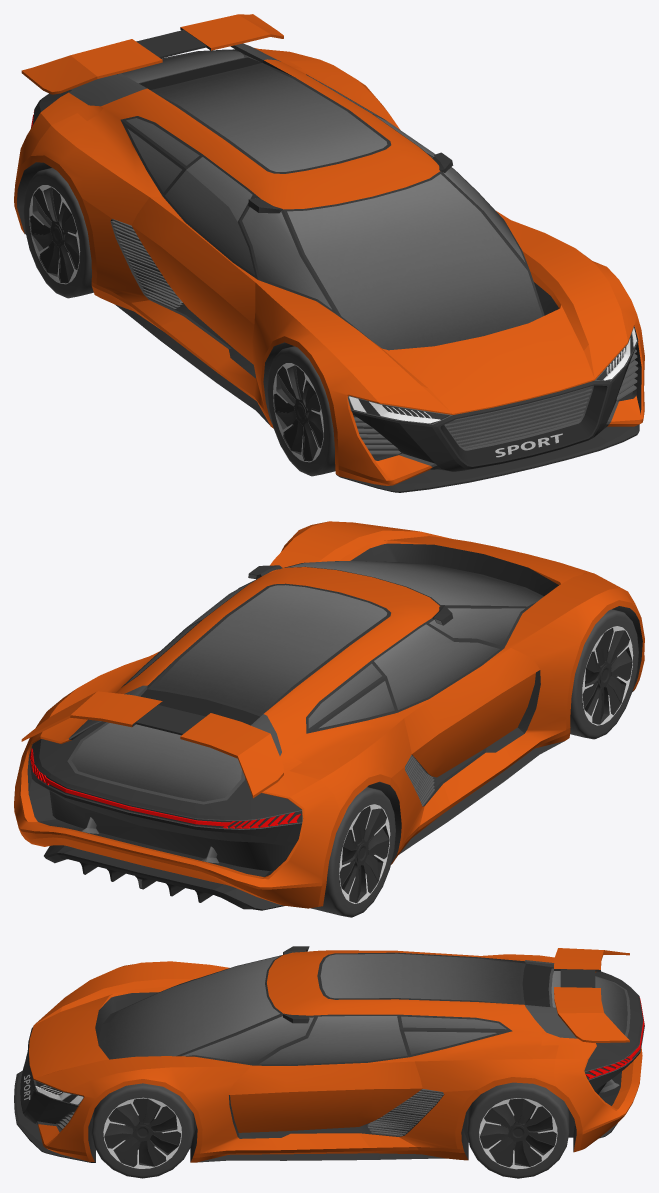
Rendered from carglb.glb.
The picture shows the model from 3 angles, top to bottom: view 1: azimuth 30°, elevation 25°; view 2: azimuth 150°, elevation 25°; view 3: azimuth 270°, elevation 25°; orthographic projection. The views are drawn at different scales.
Visible parts, largest first — view 1: Body_Textures_0, Body_Mat Body 1_0, Wheel_FR_Mat Wheel 2_0, Wheel_BR_Mat Wheel 2_0, Wheel_BR_Textures_0, Wheel_FR_Textures_0, Body_Textures Lights_0, Wheel_FR_Mat Wheel 1_0, Wheel_BR_Mat Wheel 1_0; view 2: Body_Textures_0, Body_Mat Body 1_0, Wheel_FR_Mat Wheel 2_0, Wheel_BR_Mat Wheel 2_0, Wheel_BR_Textures_0, Wheel_FR_Textures_0, Body_Textures Lights_0, Wheel_FR_Mat Wheel 1_0, Wheel_BR_Mat Wheel 1_0; view 3: Body_Mat Body 1_0, Body_Textures_0, Wheel_FL_Mat Wheel 2_0, Wheel_BL_Mat Wheel 2_0, Wheel_BL_Textures_0, Wheel_FL_Textures_0, Wheel_BL_Mat Wheel 1_0, Wheel_FL_Mat Wheel 1_0, Body_Textures Lights_0.
Boxes of the visible parts, left/top/right/bottom form: Body_Textures_0: left=17, top=27, right=641, bottom=492; Body_Mat Body 1_0: left=14, top=14, right=644, bottom=485; Wheel_FR_Mat Wheel 2_0: left=273, top=365, right=323, bottom=461; Wheel_BR_Mat Wheel 2_0: left=29, top=187, right=79, bottom=283; Wheel_BR_Textures_0: left=23, top=168, right=93, bottom=298; Wheel_FR_Textures_0: left=267, top=346, right=335, bottom=476; Body_Textures Lights_0: left=31, top=110, right=636, bottom=423; Wheel_FR_Mat Wheel 1_0: left=273, top=363, right=323, bottom=462; Wheel_BR_Mat Wheel 1_0: left=29, top=185, right=80, bottom=284; Body_Textures_0: left=27, top=543, right=642, bottom=910; Body_Mat Body 1_0: left=14, top=521, right=644, bottom=908; Wheel_FR_Mat Wheel 2_0: left=582, top=628, right=632, bottom=724; Wheel_BR_Mat Wheel 2_0: left=339, top=806, right=389, bottom=902; Wheel_BR_Textures_0: left=311, top=787, right=395, bottom=917; Wheel_FR_Textures_0: left=570, top=609, right=638, bottom=739; Body_Textures Lights_0: left=29, top=748, right=300, bottom=828; Wheel_FR_Mat Wheel 1_0: left=582, top=626, right=633, bottom=725; Wheel_BR_Mat Wheel 1_0: left=339, top=804, right=390, bottom=903; Body_Mat Body 1_0: left=29, top=948, right=642, bottom=1162; Body_Textures_0: left=14, top=946, right=644, bottom=1162; Wheel_FL_Mat Wheel 2_0: left=104, top=1098, right=181, bottom=1167; Wheel_BL_Mat Wheel 2_0: left=480, top=1098, right=556, bottom=1167; Wheel_BL_Textures_0: left=467, top=1082, right=569, bottom=1178; Wheel_FL_Textures_0: left=91, top=1083, right=193, bottom=1178; Wheel_BL_Mat Wheel 1_0: left=479, top=1098, right=557, bottom=1169; Wheel_FL_Mat Wheel 1_0: left=103, top=1097, right=181, bottom=1168; Body_Textures Lights_0: left=35, top=997, right=644, bottom=1104.
Bounding box in the file's own units: 0.6262 × 0.3652 × 1.42.
5 materials, 2 textured.
